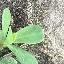Purslane: (0, 6, 45, 64)
